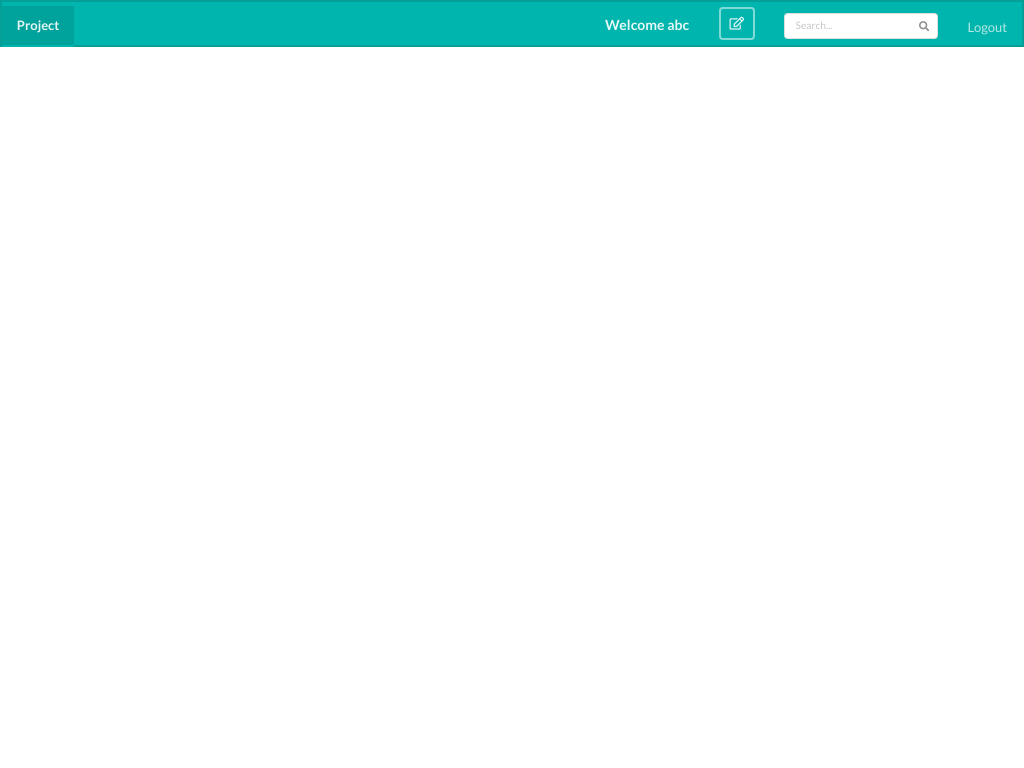
Scenario: Header Component › click preference button and test preference modal
This screenshot has width=1024, height=768.
Click the button at {"x": 737, "y": 23}, box [719,7,755,40]
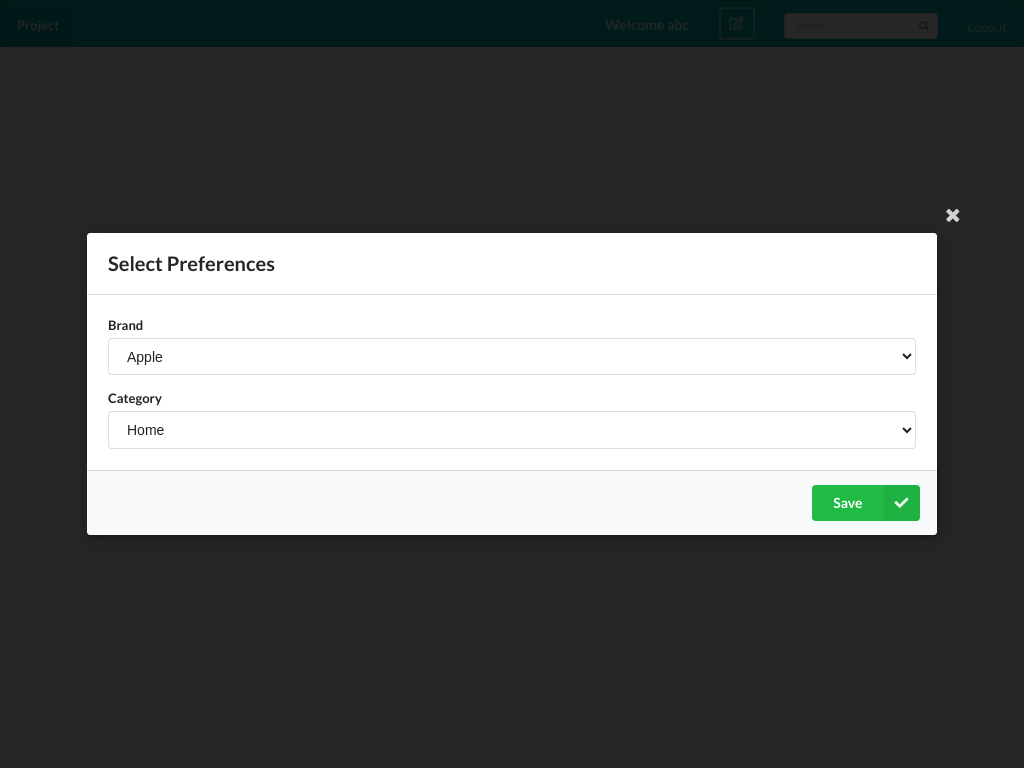
Result: the text "Select Preferences" is shown at [87,233,937,295]
Result: the number of dropdowns is 2 at [108,338,916,375]; [108,412,916,449]
Result: the button "Save" is shown at [812,485,920,521]
